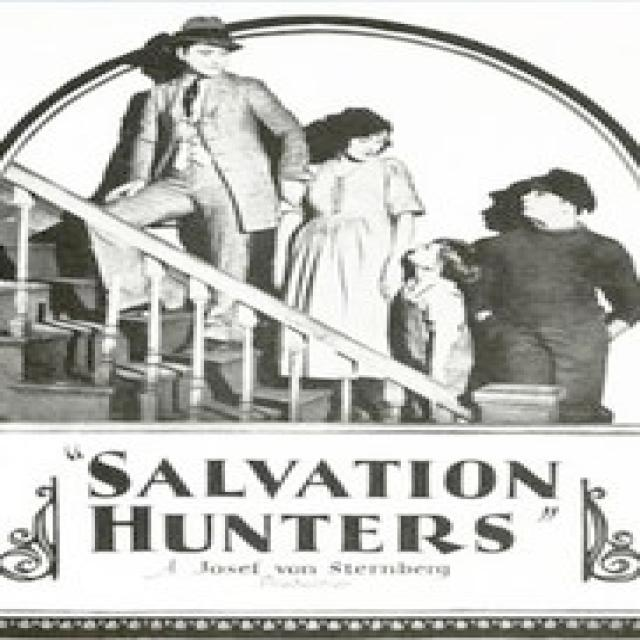movie-judul: (46, 431, 585, 591)
picture: (9, 4, 636, 616)
